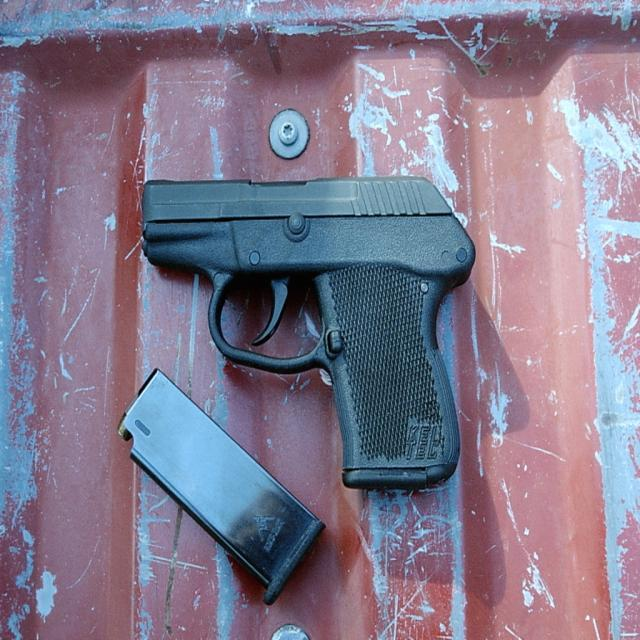Gun: (142, 178, 475, 488)
